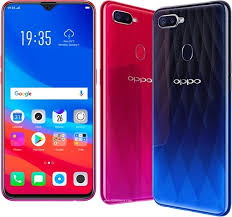oppo: (1, 1, 97, 202), (150, 2, 232, 216), (97, 1, 153, 204)
